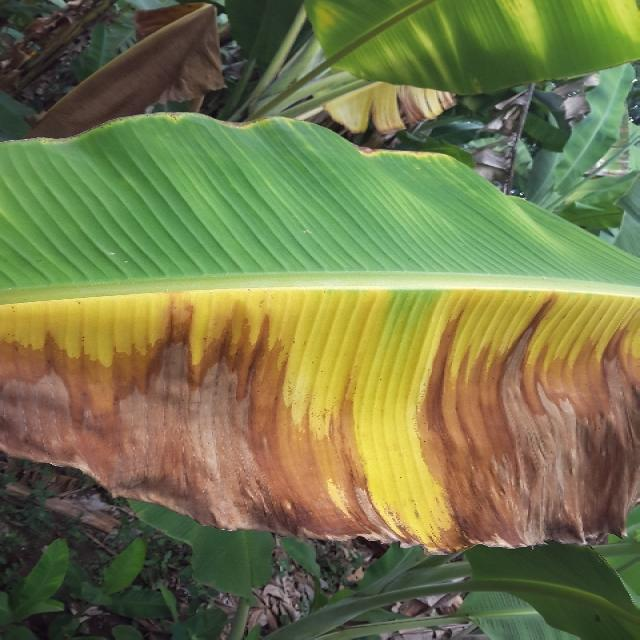Cordana: (0, 263, 640, 579), (313, 64, 487, 143), (104, 0, 220, 79), (581, 116, 640, 224)
